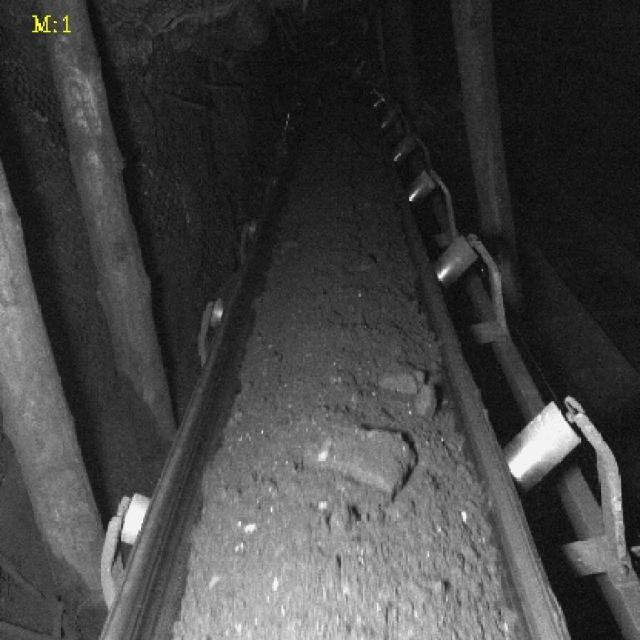large_sized_coal: (303, 422, 419, 496), (374, 358, 421, 396), (414, 391, 441, 422)
